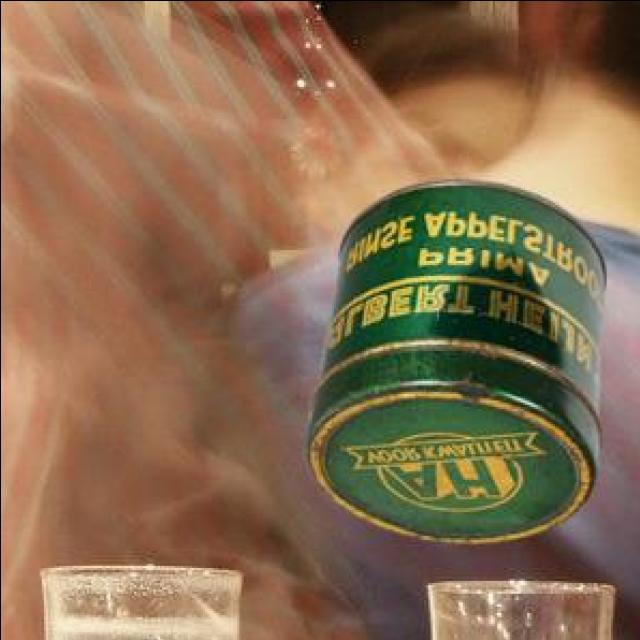logam: (308, 177, 609, 538)
